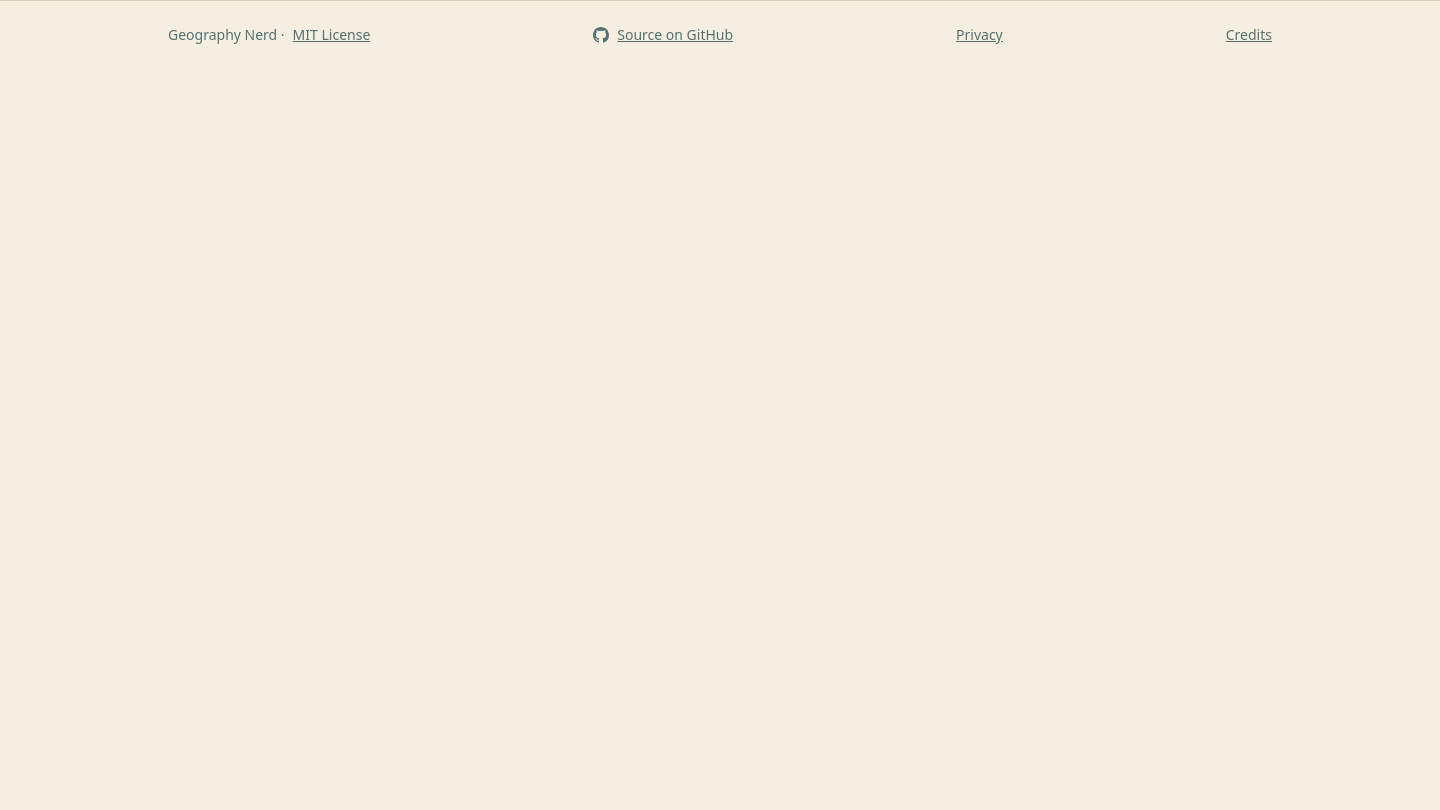
AboutModal › closes when the close button is clicked
Click the button "Credits": (1249, 35) [1226,13,1272,57]
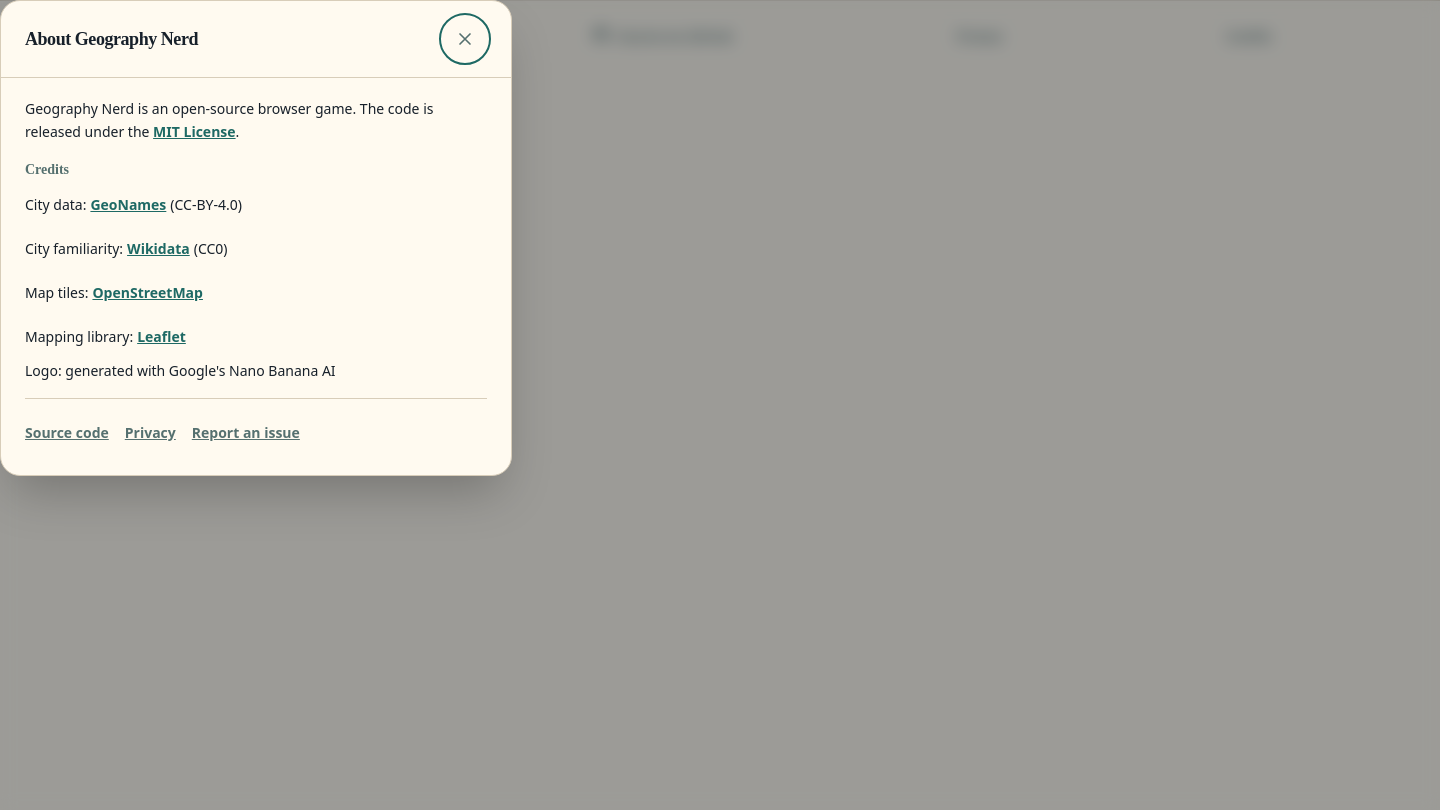
Expected: the heading "About Geography Nerd" is shown, [25,25,198,53]
Click the button named "Close": (465, 39) [443,17,487,61]
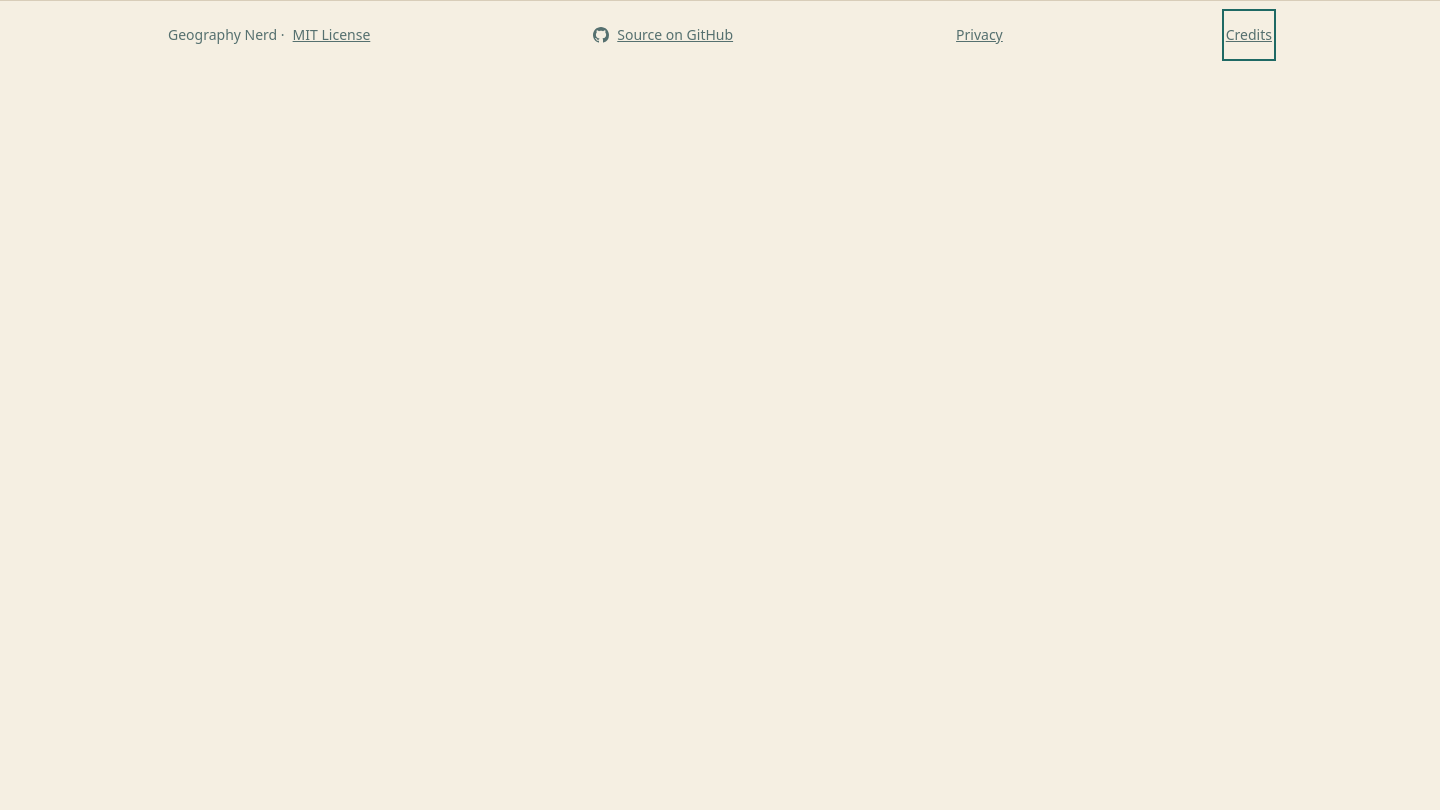
Expected: the heading "About Geography Nerd" is gone
